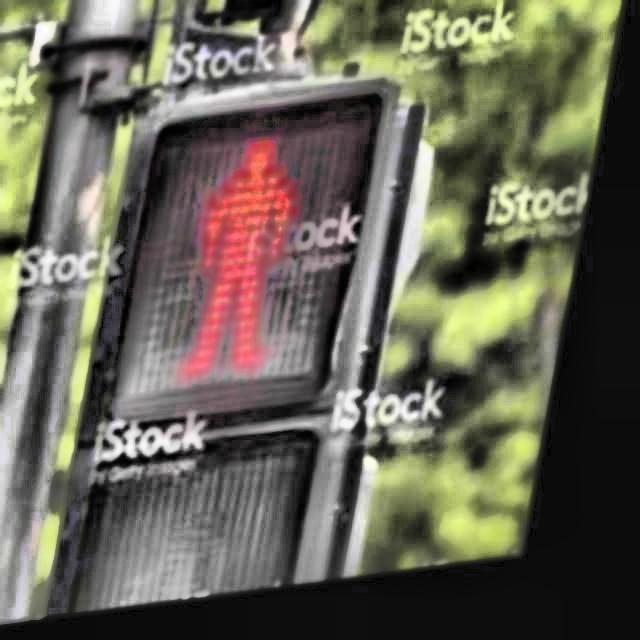semaforo pedestre: (0, 0, 556, 632)
